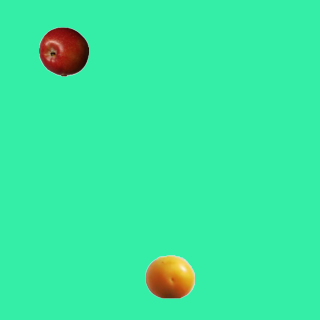Apple Braeburn: (38, 26, 88, 76)
Cherry Wax Yellow: (144, 251, 194, 301)
